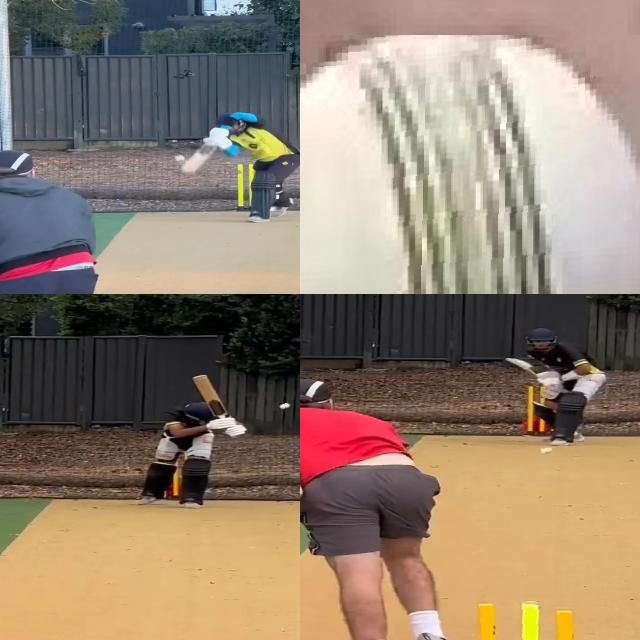Cricket ball: (300, 35, 640, 294), (538, 447, 554, 456), (278, 403, 293, 411), (172, 156, 187, 163)
Stumps: (458, 598, 595, 640)
